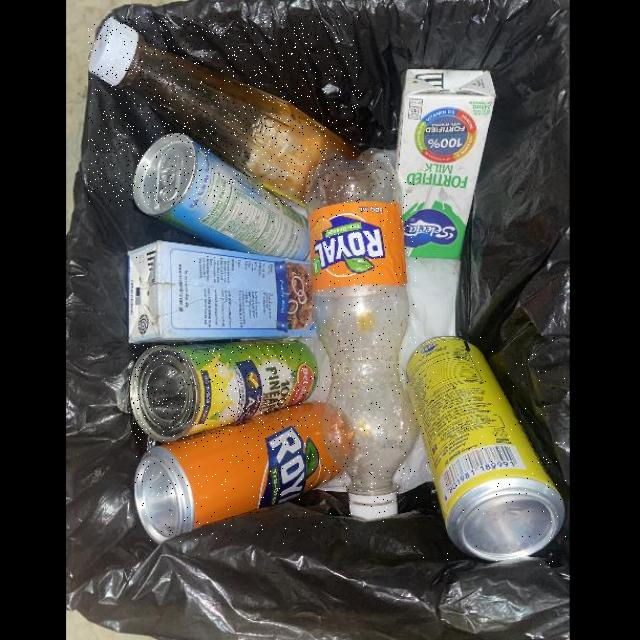glass: (88, 17, 362, 206)
metal: (407, 337, 566, 565), (134, 404, 355, 544), (133, 133, 310, 264), (130, 339, 319, 444)
paper: (128, 241, 318, 344), (397, 69, 497, 261)
plastic: (307, 151, 417, 523)
